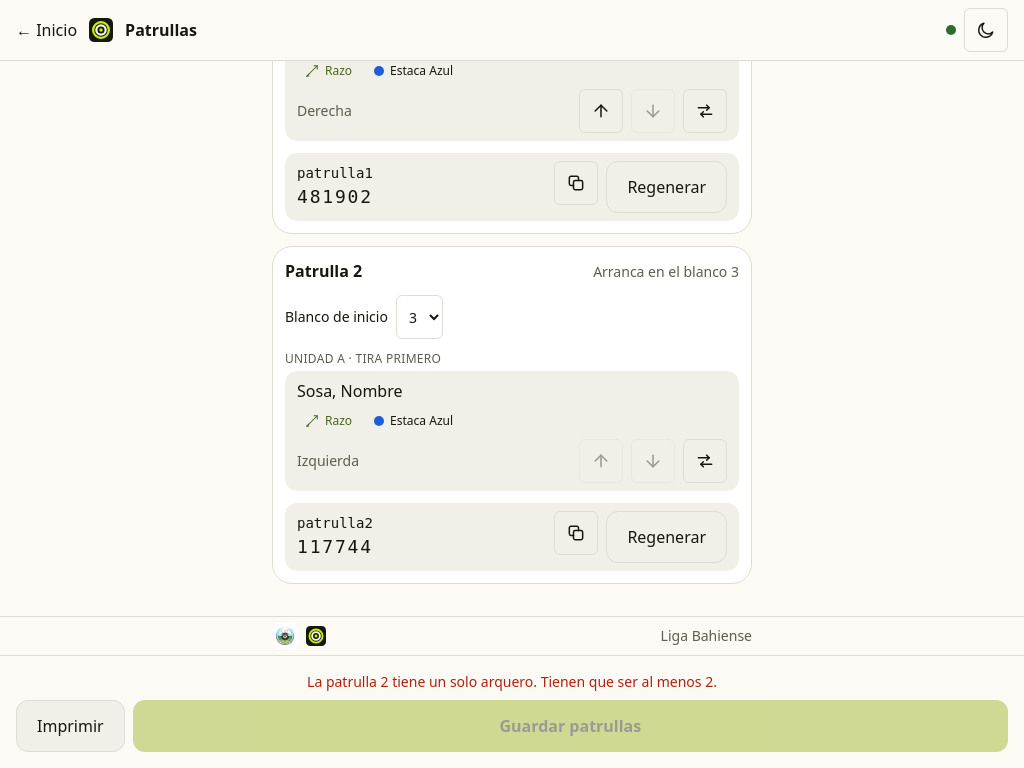
edición manual › un quinto arquero › queda A LA VISTA en la patrulla destino, no desaparece
(page scrolled)
Click the button named "Mover a Sosa a otra patrulla".
click(705, 461)  # box x1=683 y1=439 x2=727 y2=483
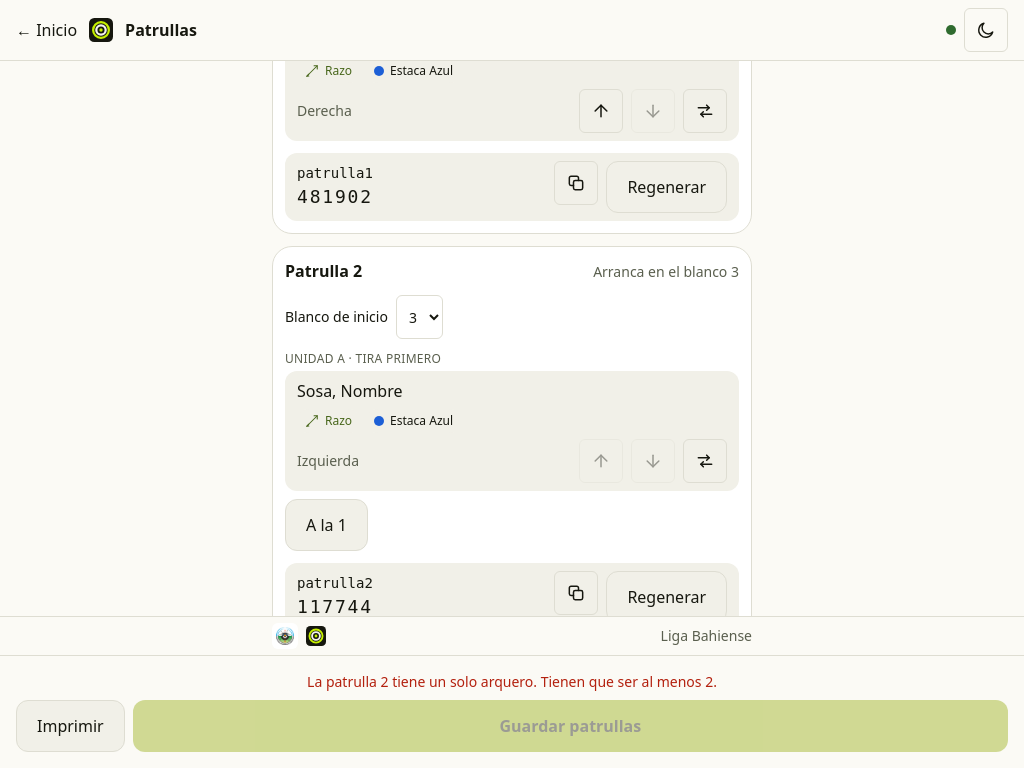
Click the button "A la 1".
click(326, 525)  # box x1=285 y1=499 x2=368 y2=551
(page scrolled)
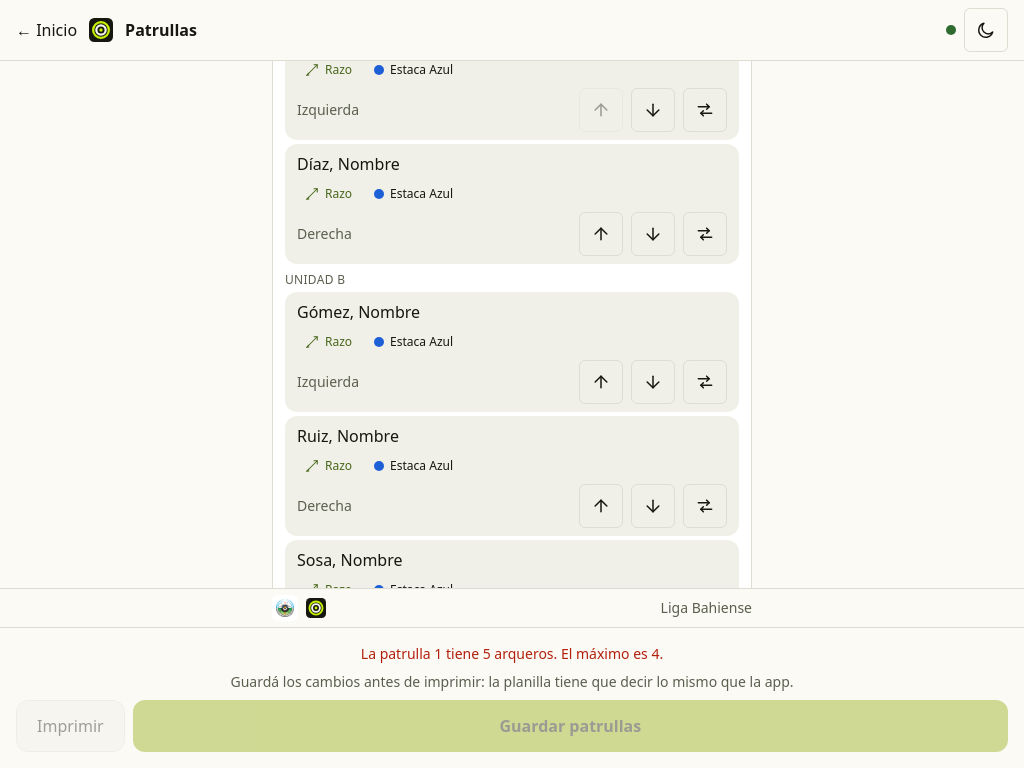
Now the element with test id "patrulla-1" shows "Sosa", box x1=297 y1=549 x2=332 y2=571
Now the element with test id "patrulla-2" no longer shows "Sosa"
